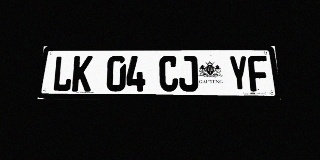0: (106, 56, 126, 92)
4: (126, 56, 146, 92)
C: (159, 56, 178, 92)
F: (247, 56, 270, 92)
J: (179, 56, 198, 92)
K: (71, 56, 93, 91)
L: (52, 56, 74, 91)
Y: (228, 56, 250, 92)
